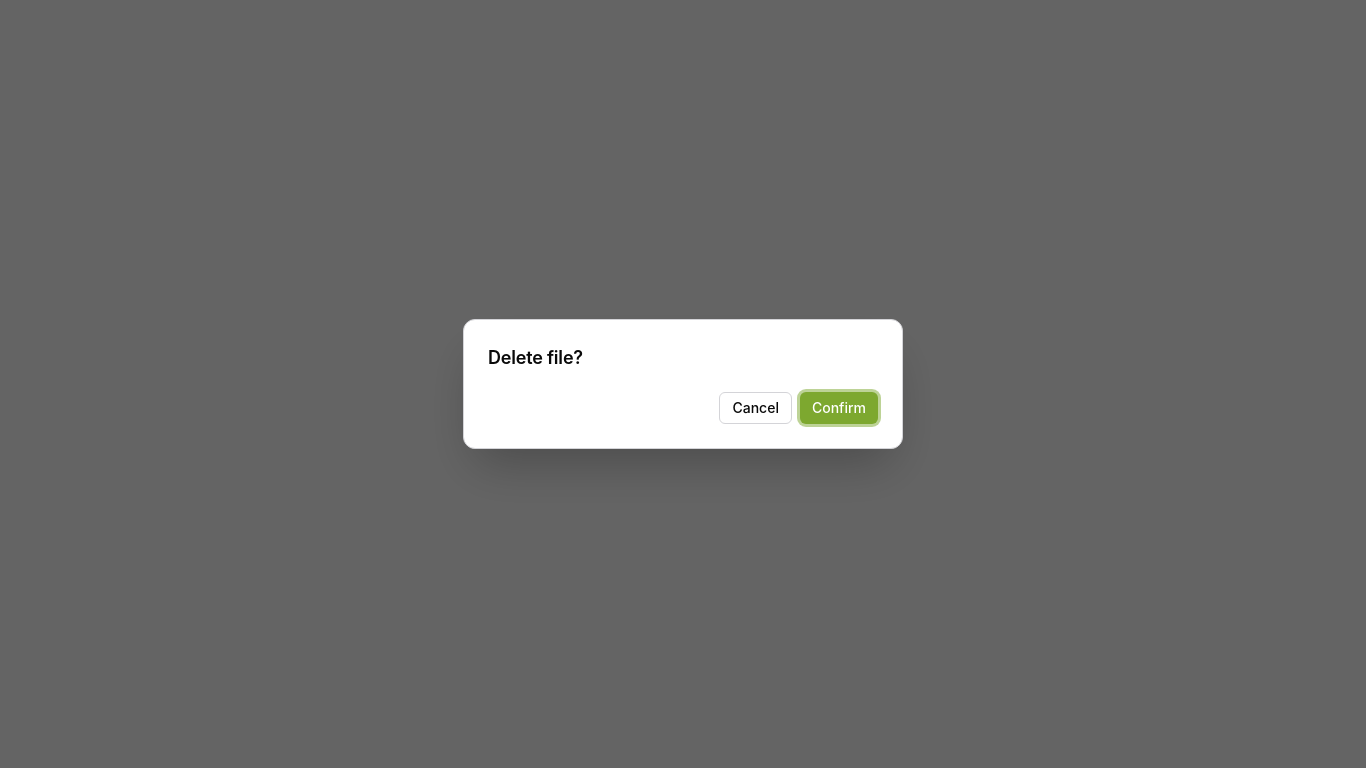
Test: confirmDialog › shows the warning badge and repeats the glyph on the action when given an icon
Later steps or results of the test are not shown.
What coordinates should you click on to do the following:
click the button "Cancel"
I would click on:
 (756, 408)
Its box is [720,392,792,424].
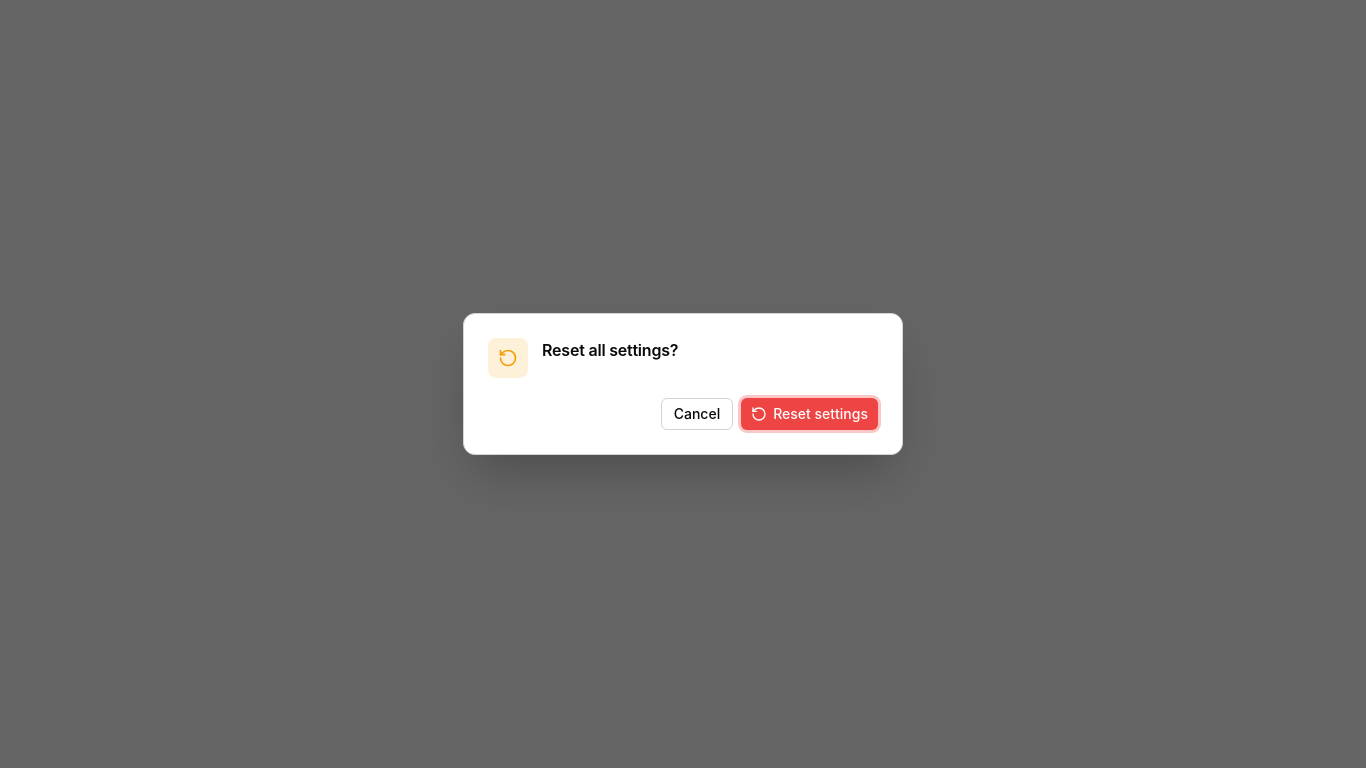
Expected: the number of icons is 2, [498,348,518,368]; [751,406,767,422]
Expected: the 2nd icon is shown, [751,406,767,422]
